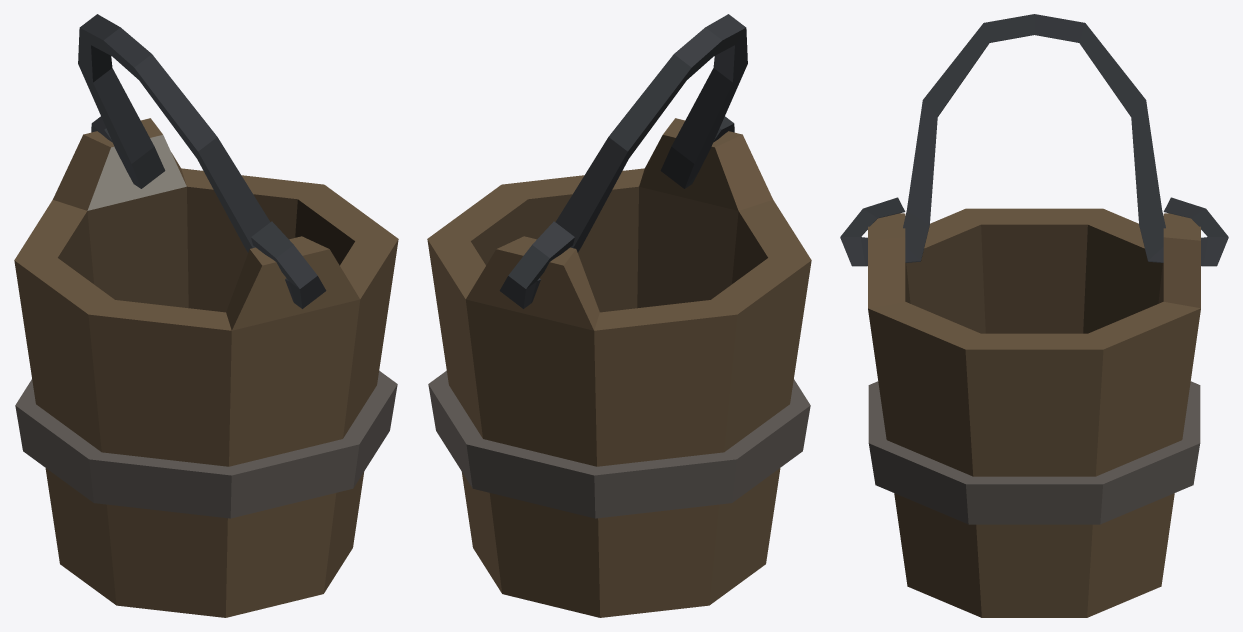
File: Wooden Bucket.fbx
3 renders of one model, left to right at view 1: azimuth 30°, elevation 25°; view 2: azimuth 150°, elevation 25°; view 3: azimuth 270°, elevation 25°, orthographic. The views are drawn at different scales.
Parts seen in each view (by area): view 1: Bucket, Handle; view 2: Bucket, Handle; view 3: Bucket, Handle.
Boxes of the visible parts, x1,y1,x2,y2 form: Bucket: (14,118,398,617); Handle: (78,14,326,308); Bucket: (427,118,811,617); Handle: (499,14,747,308); Bucket: (868,208,1200,617); Handle: (840,14,1228,266).
Bounding box in the file's own units: 96.23 × 163 × 112.
